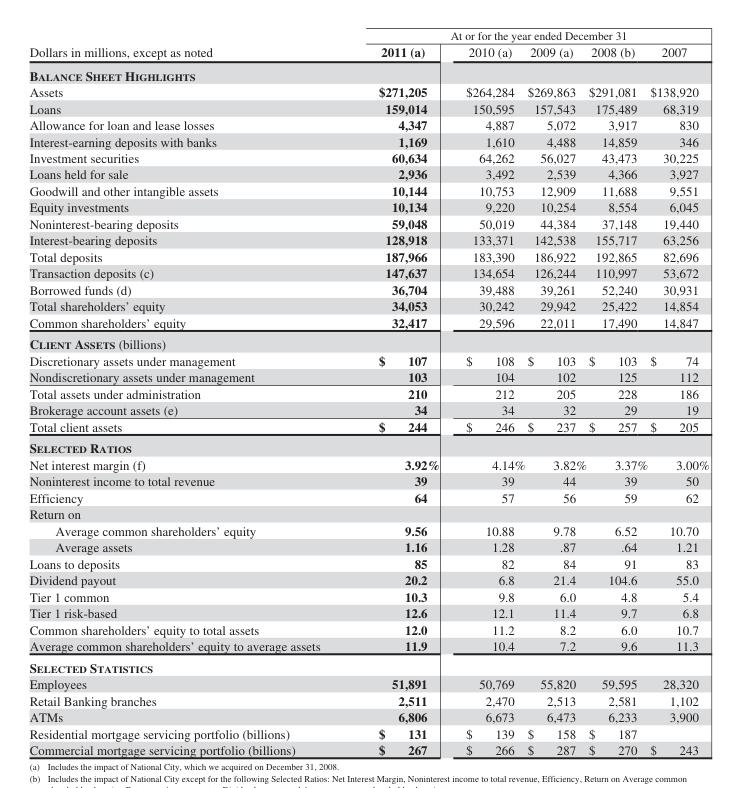table: (28, 28, 708, 756)
table column: (28, 28, 348, 756), (348, 28, 452, 756), (452, 28, 525, 756), (586, 28, 648, 756), (525, 28, 586, 756), (648, 28, 708, 756)
table column header: (28, 28, 708, 63)
table projected row header: (28, 63, 708, 83), (28, 332, 708, 351), (28, 436, 708, 455), (28, 656, 708, 675), (28, 505, 708, 521)
table row: (28, 42, 708, 63), (28, 63, 708, 83), (28, 313, 708, 332), (28, 332, 708, 351), (28, 417, 708, 436), (28, 436, 708, 455), (28, 637, 708, 656), (28, 656, 708, 675), (28, 99, 708, 116), (28, 132, 708, 149), (28, 165, 708, 182), (28, 198, 708, 215), (28, 247, 708, 264), (28, 280, 708, 297), (28, 351, 708, 368), (28, 384, 708, 401), (28, 455, 708, 472), (28, 488, 708, 505), (28, 521, 708, 538), (28, 554, 708, 571), (28, 587, 708, 604), (28, 620, 708, 637), (28, 691, 708, 708), (28, 724, 708, 741), (28, 83, 708, 99), (28, 116, 708, 132), (28, 149, 708, 165), (28, 182, 708, 198), (28, 215, 708, 231), (28, 231, 708, 247), (28, 264, 708, 280), (28, 297, 708, 313), (28, 368, 708, 384), (28, 401, 708, 417), (28, 472, 708, 488), (28, 505, 708, 521), (28, 538, 708, 554), (28, 571, 708, 587), (28, 604, 708, 620), (28, 675, 708, 691), (28, 708, 708, 724), (28, 741, 708, 756), (28, 28, 708, 42)
table spanning cell: (28, 28, 348, 63), (348, 28, 708, 42)
